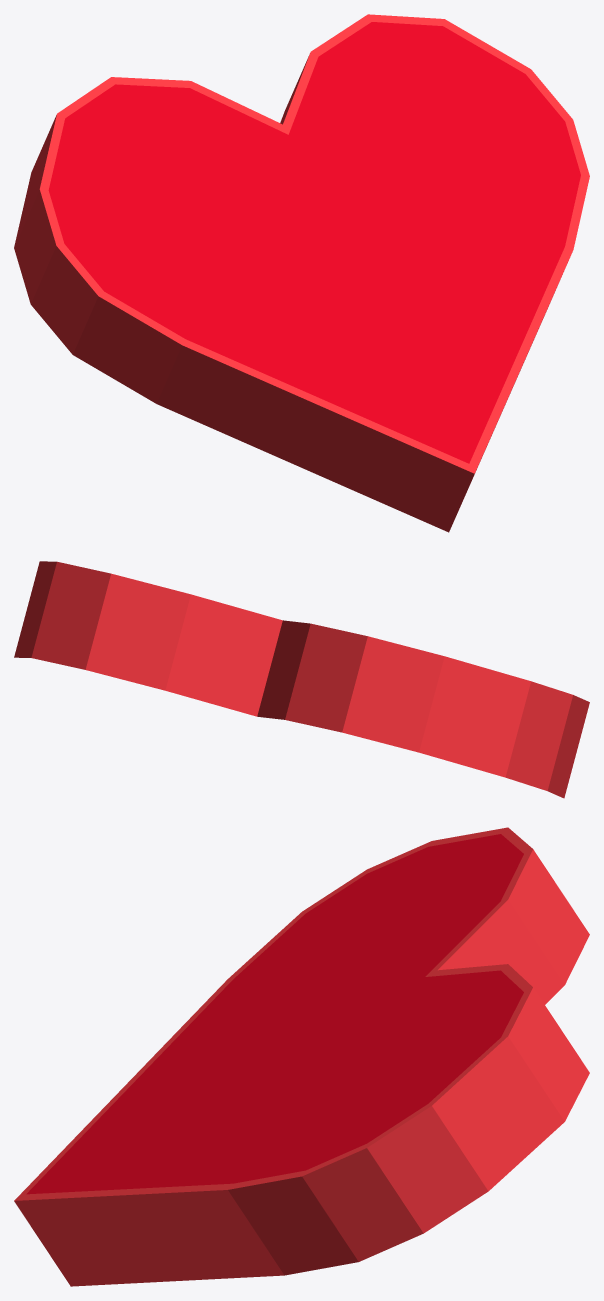
File: heart.glb
The picture shows the model from 3 angles, top to bottom: view 1: azimuth 30°, elevation 25°; view 2: azimuth 150°, elevation 25°; view 3: azimuth 270°, elevation 25°; orthographic projection. The views are drawn at different scales.
Visible parts, largest first — view 1: Heart; view 2: Heart; view 3: Heart.
Boxes of the visible parts, box(x1,y1,x2,y2) form: Heart: box(14, 14, 589, 532); Heart: box(14, 561, 589, 798); Heart: box(14, 827, 589, 1286).
Size of the model in its own units: 0.1996 by 0.1231 by 0.1745.
1 material, 1 textured.
